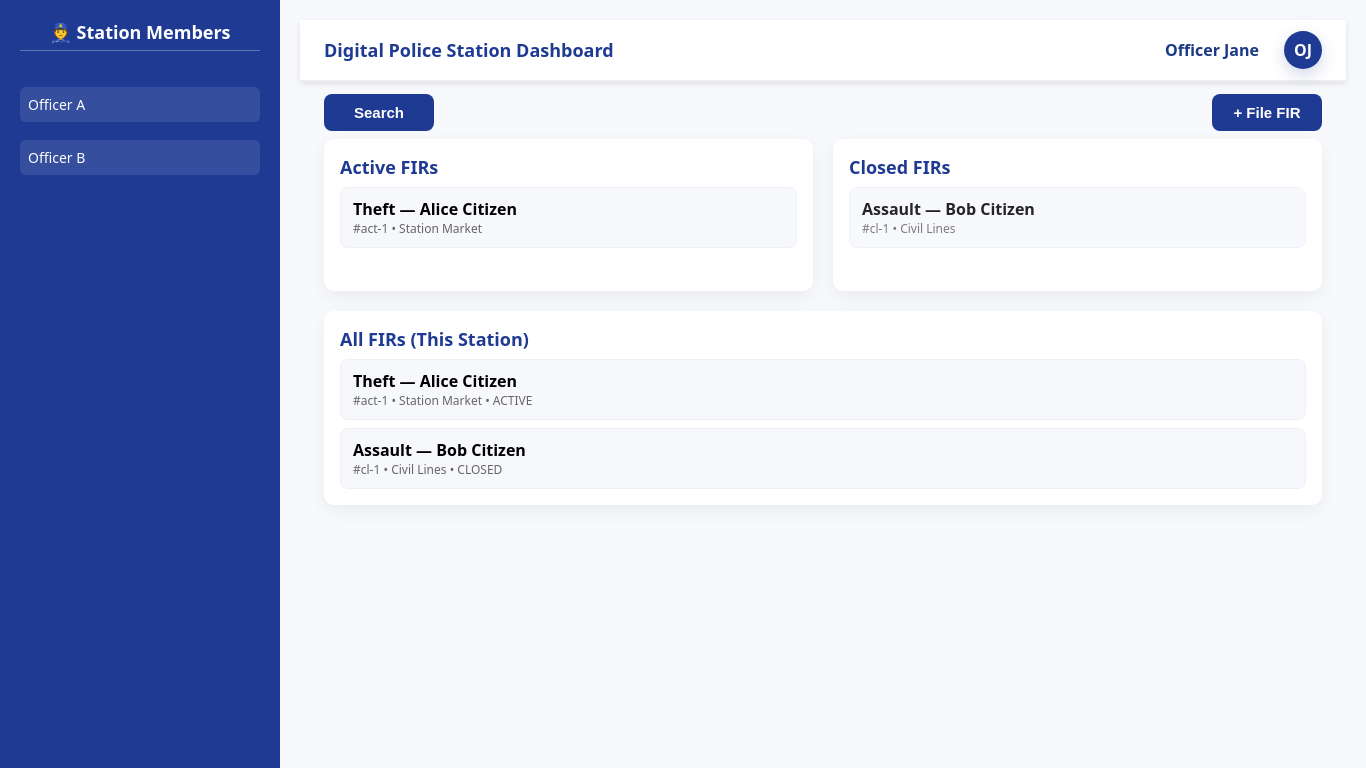
Scenario: PoliceDashboard › opens profile dropdown and shows meta + logout button
Click the button with aria-label "Profile menu" at (1303, 50), box [1284,31,1322,69]
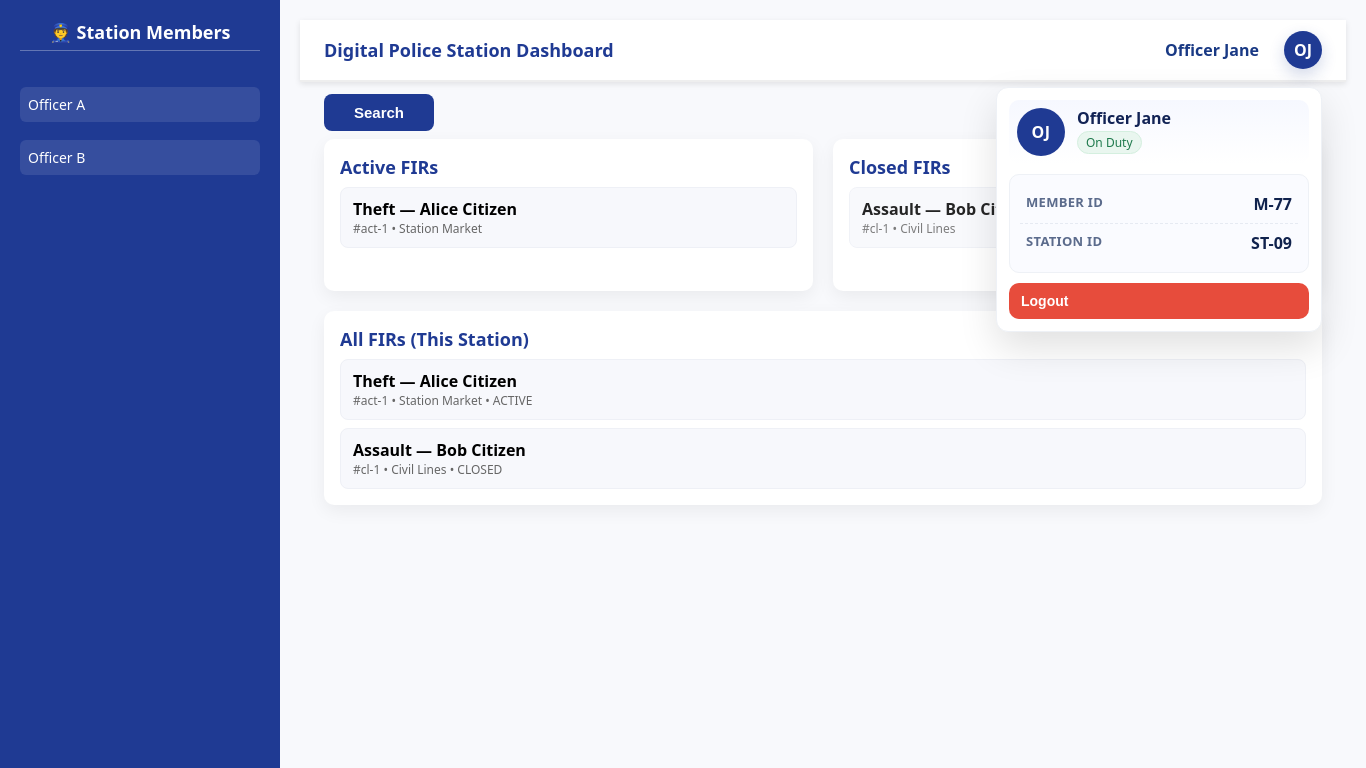
Result: the text "On Duty" is shown at [1077,131,1142,154]
Result: the text "Member ID" is shown at [1026,193,1103,211]
Result: the text "M-77" is shown at [1254,193,1292,215]
